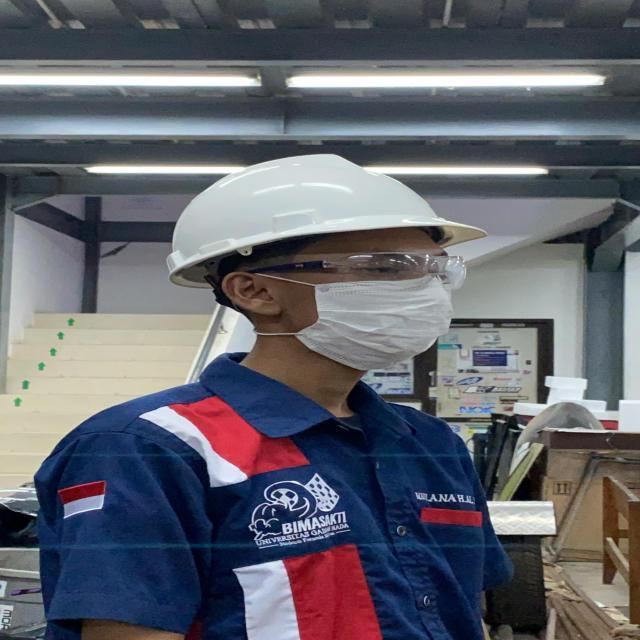glasses: (237, 250, 483, 291)
